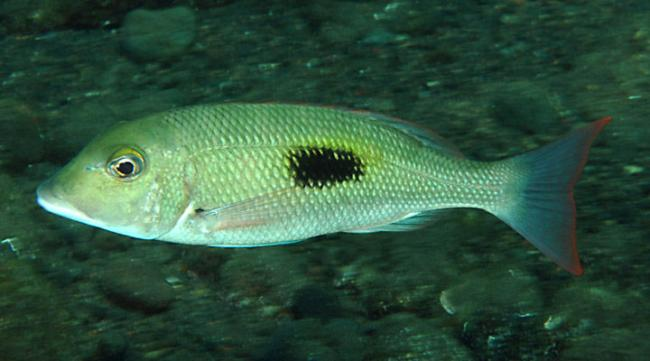fish: (36, 102, 611, 276)
